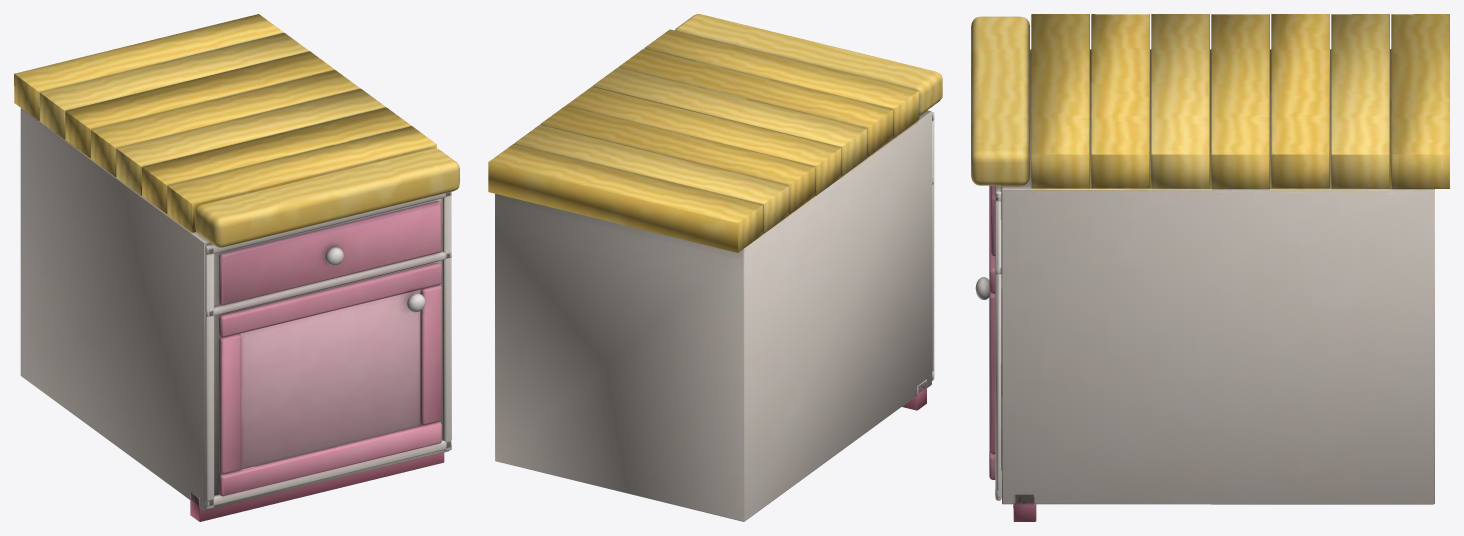
Rendered from counter.glb.
3 renders of one model, left to right at view 1: azimuth 30°, elevation 25°; view 2: azimuth 150°, elevation 25°; view 3: azimuth 270°, elevation 25°, orthographic. The views are drawn at different scales.
Visible parts, largest first — view 1: counter; view 2: counter; view 3: counter.
Part boxes in pixels (<box>): counter: <box>14,14,459,521</box>; counter: <box>488,14,942,521</box>; counter: <box>971,14,1449,521</box>.
Bounding box in the file's own units: 4.3 × 5.25 × 6.18.
1 material, 1 textured.
